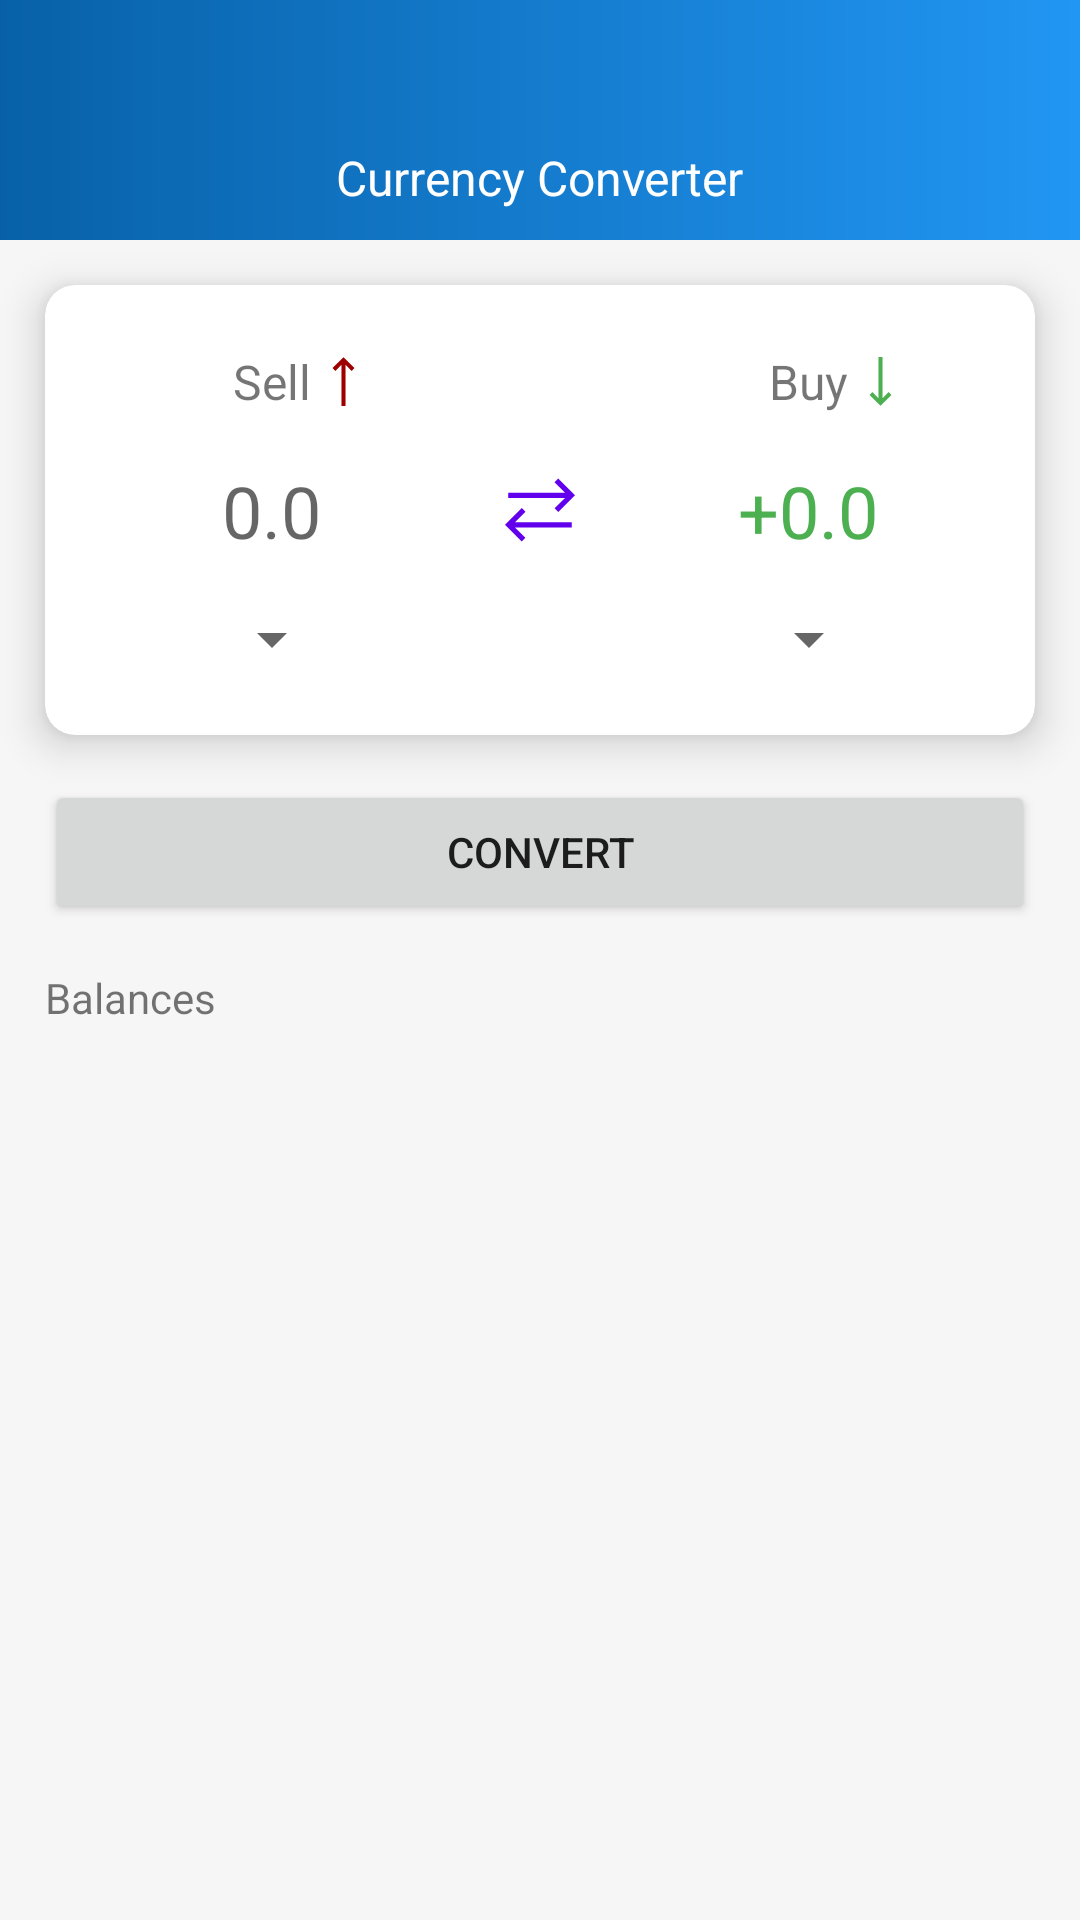

Where icons sit on this 1080x1920 app screen, as (x1, y1, x2, y2):
convert: (505, 478, 575, 542)
